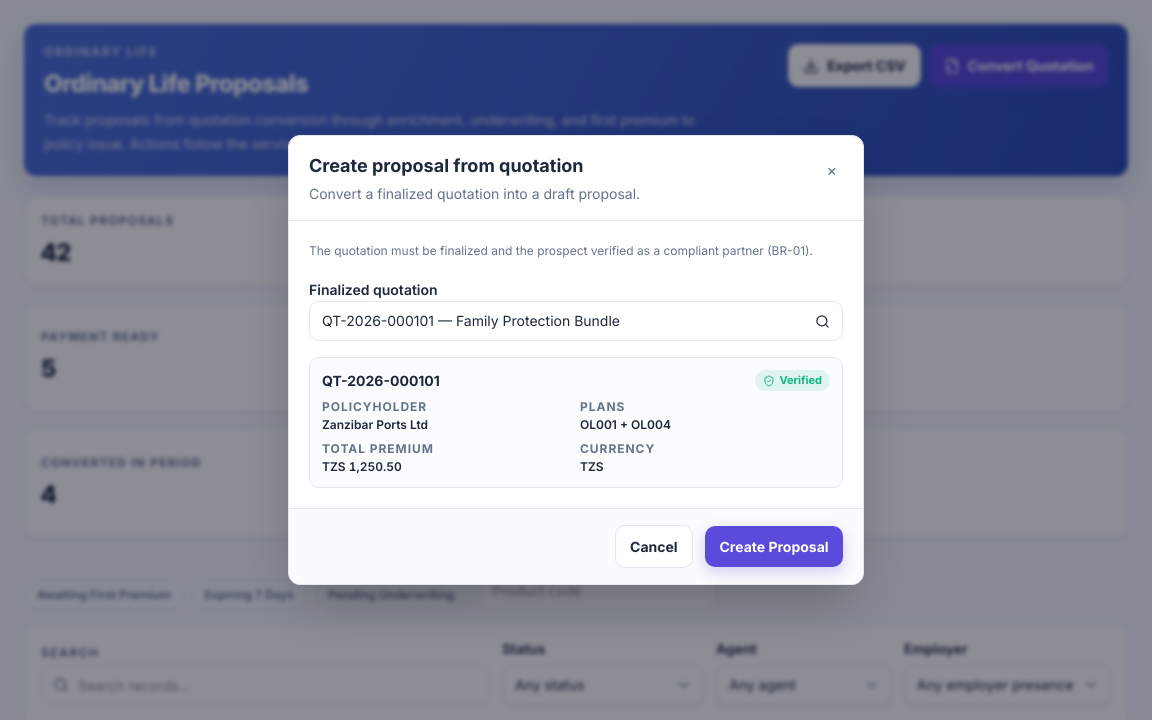
Test: Convert quotation modal › shows a link to the existing proposal when the quotation was already converted
This screenshot has width=1152, height=720.
Earlier steps of the test are not shown.
Later steps or results of the test are not shown.
What coordinates should you click on to do the following:
click the button with test id "convert-quotation-submit"
I would click on:
 (774, 546)
Its box is [705,526,843,567].
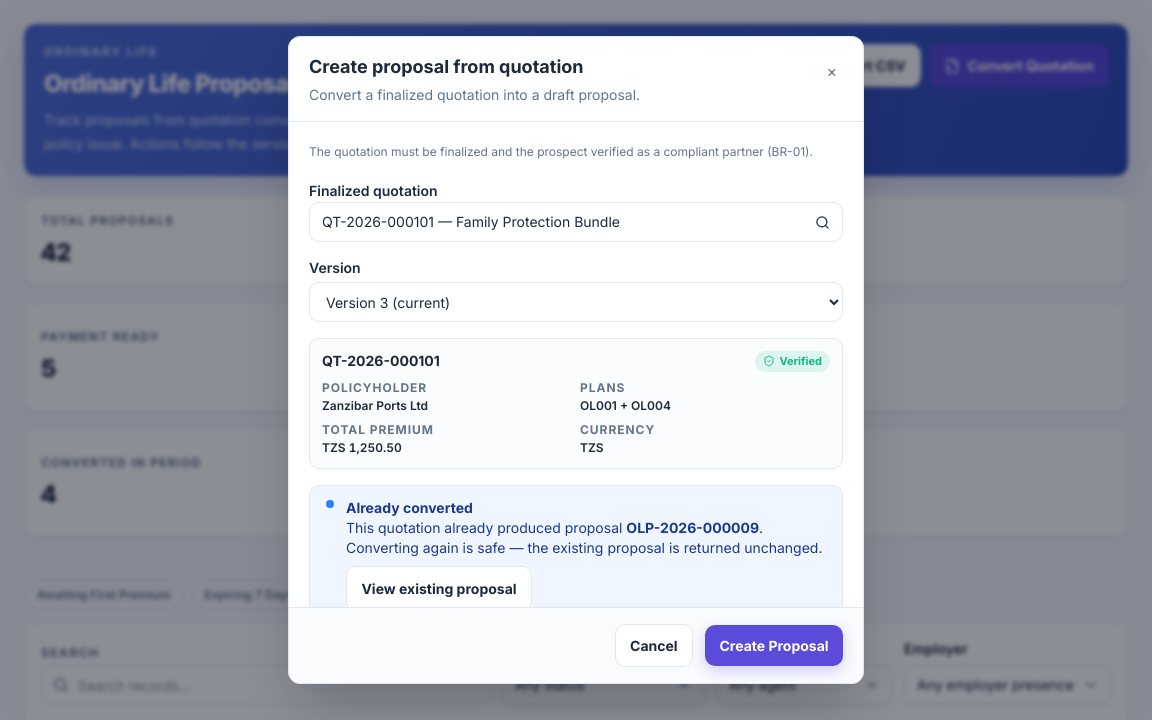
Expected: the button with test id "view-existing-proposal" reads "View existing proposal", [346,566,532,607]
